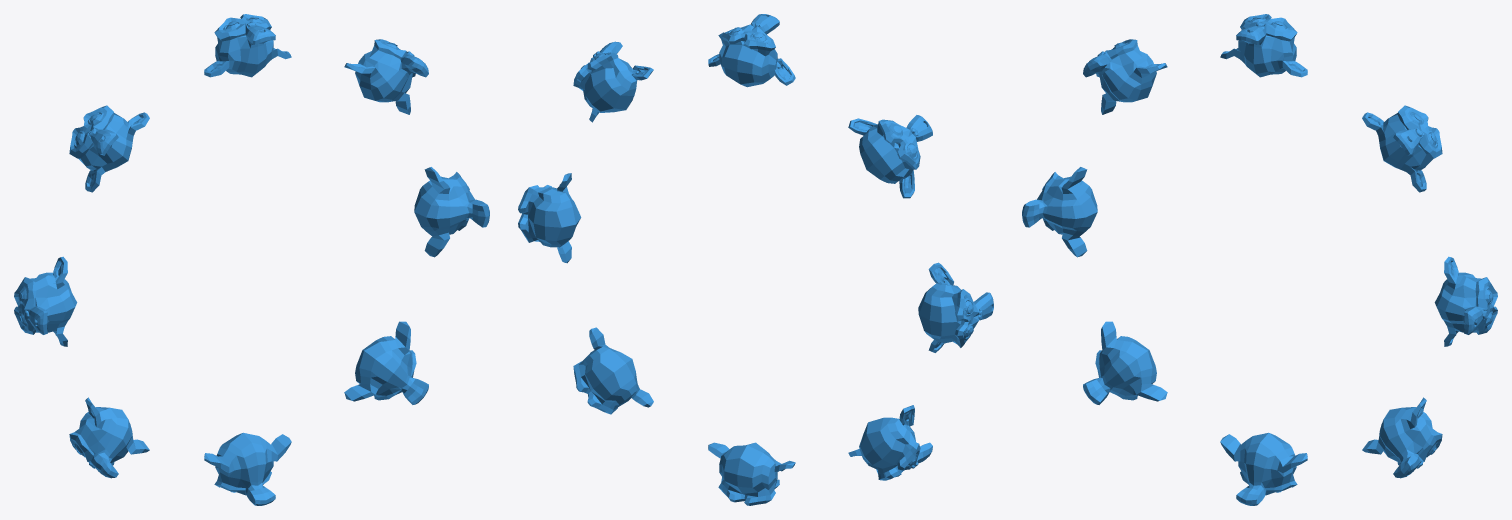
The picture shows the model from 3 angles, left to right: view 1: azimuth 30°, elevation 25°; view 2: azimuth 150°, elevation 25°; view 3: azimuth 330°, elevation 25°; orthographic projection.
Visible parts, largest first — view 1: Suzanne.006, Suzanne.002, Suzanne.001, Suzanne.007, Suzanne.003, Suzanne, Suzanne.004, Suzanne.005; view 2: Suzanne.007, Suzanne.003, Suzanne, Suzanne.006, Suzanne.002, Suzanne.001, Suzanne.005, Suzanne.004; view 3: Suzanne.005, Suzanne.003, Suzanne.001, Suzanne.004, Suzanne.002, Suzanne, Suzanne.007, Suzanne.006.
Part boxes in pixels (box(x1,y1,x2,y2)): Suzanne.006: box(344, 321, 428, 404); Suzanne.002: box(414, 167, 489, 257); Suzanne.001: box(204, 432, 291, 505); Suzanne.007: box(69, 105, 149, 192); Suzanne.003: box(14, 256, 77, 346); Suzanne: box(204, 14, 291, 77); Suzanne.004: box(344, 39, 428, 114); Suzanne.005: box(69, 397, 149, 478); Suzanne.007: box(848, 115, 932, 198); Suzanne.003: box(918, 262, 993, 352); Suzanne: box(708, 14, 795, 87); Suzanne.006: box(573, 327, 653, 414); Suzanne.002: box(518, 173, 581, 263); Suzanne.001: box(708, 442, 795, 505); Suzanne.005: box(848, 405, 932, 480); Suzanne.004: box(573, 41, 653, 122); Suzanne.005: box(1083, 321, 1167, 404); Suzanne.003: box(1022, 167, 1097, 257); Suzanne.001: box(1220, 432, 1307, 505); Suzanne.004: box(1362, 105, 1442, 192); Suzanne.002: box(1434, 256, 1497, 346); Suzanne: box(1220, 14, 1307, 77); Suzanne.007: box(1083, 39, 1167, 114); Suzanne.006: box(1362, 397, 1442, 478).
Size of the model in its own units: 365 by 365 by 45.94.
